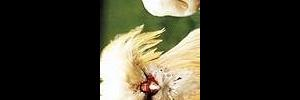hen: (100, 23, 199, 100)
